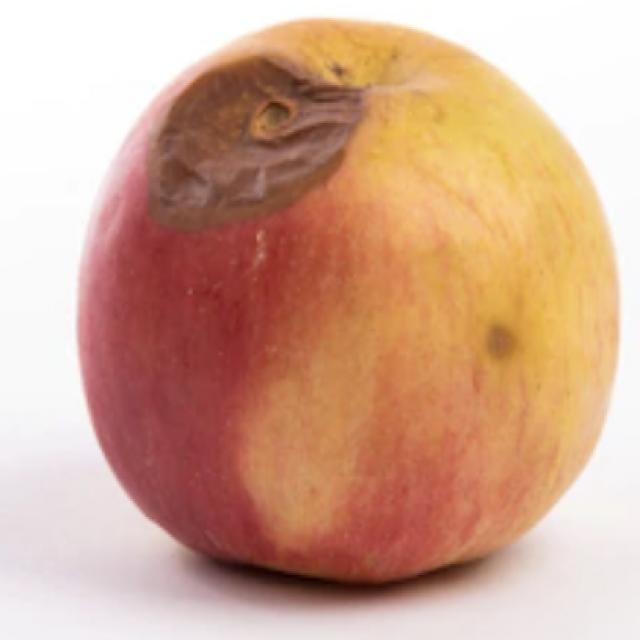Rotten: (69, 7, 624, 588)
